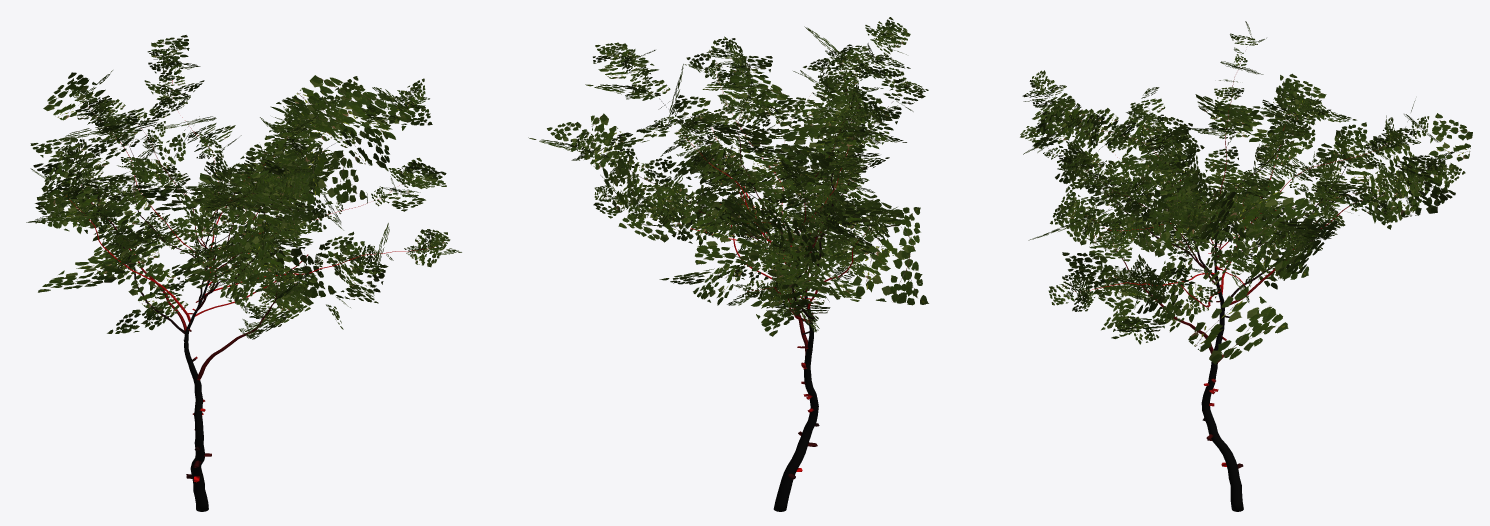
3 renders of one model, left to right at view 1: azimuth 30°, elevation 25°; view 2: azimuth 150°, elevation 25°; view 3: azimuth 270°, elevation 25°, orthographic. The views are drawn at different scales.
Parts seen in each view (by area): view 1: Tree25; view 2: Tree25; view 3: Tree25.
Boxes of the visible parts, box(x1,y1,x2,y2) form: Tree25: box(26, 35, 461, 511); Tree25: box(528, 17, 928, 511); Tree25: box(1020, 21, 1472, 511).
Bounding box in the file's own units: 10 × 10 × 10.
